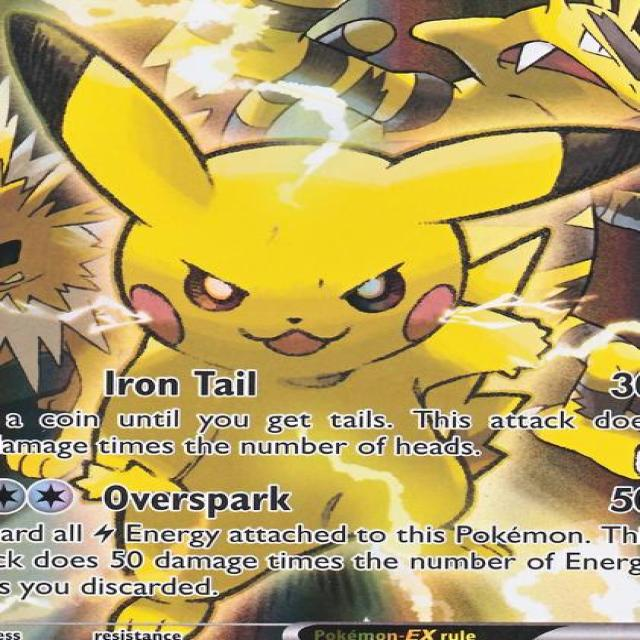pikachu: (8, 12, 620, 639)
